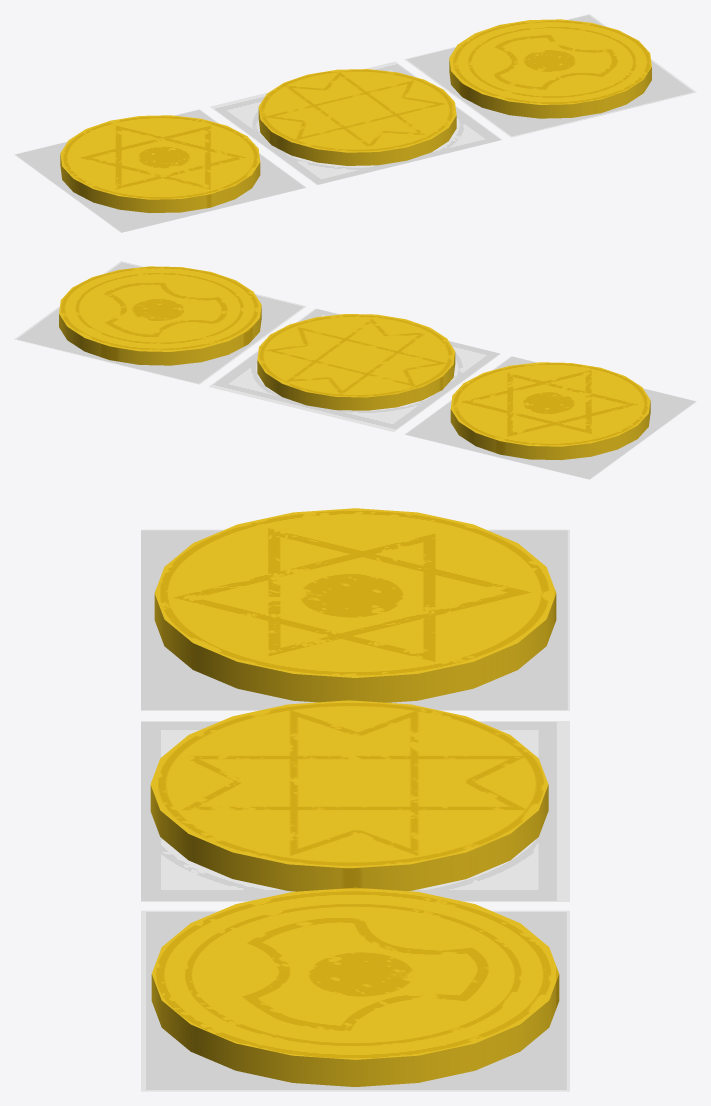
Rendered from Gold_Plates.fbx.
3 renders of one model, top to bottom at view 1: azimuth 30°, elevation 25°; view 2: azimuth 150°, elevation 25°; view 3: azimuth 270°, elevation 25°, orthographic. The views are drawn at different scales.
Visible parts, largest first — view 1: pCylinder1, pCylinder3, pCylinder2, pPlane2, pPlane3, pPlane1; view 2: pCylinder1, pCylinder3, pCylinder2, pPlane2, pPlane3, pPlane1; view 3: pCylinder1, pCylinder3, pCylinder2, pPlane2, pPlane3, pPlane1.
Part boxes in pixels (x1=…): pCylinder1: x1=449, y1=19, x2=651, y2=118; pCylinder3: x1=60, y1=115, x2=260, y2=212; pCylinder2: x1=258, y1=69, x2=456, y2=165; pPlane2: x1=210, y1=61, x2=502, y2=184; pPlane3: x1=14, y1=109, x2=306, y2=232; pPlane1: x1=404, y1=14, x2=696, y2=137; pCylinder1: x1=59, y1=266, x2=261, y2=365; pCylinder3: x1=450, y1=362, x2=650, y2=459; pCylinder2: x1=257, y1=314, x2=455, y2=410; pPlane2: x1=208, y1=308, x2=500, y2=431; pPlane3: x1=404, y1=356, x2=696, y2=479; pPlane1: x1=14, y1=261, x2=306, y2=384; pCylinder1: x1=151, y1=887, x2=559, y2=1086; pCylinder3: x1=154, y1=508, x2=556, y2=702; pCylinder2: x1=150, y1=700, x2=548, y2=891; pPlane2: x1=141, y1=721, x2=569, y2=901; pPlane3: x1=141, y1=529, x2=569, y2=710; pPlane1: x1=141, y1=910, x2=569, y2=1091.
Size of the model in its own units: 33.65 by 0.7644 by 10.85.
Materials: 2 (2 with a texture image).
